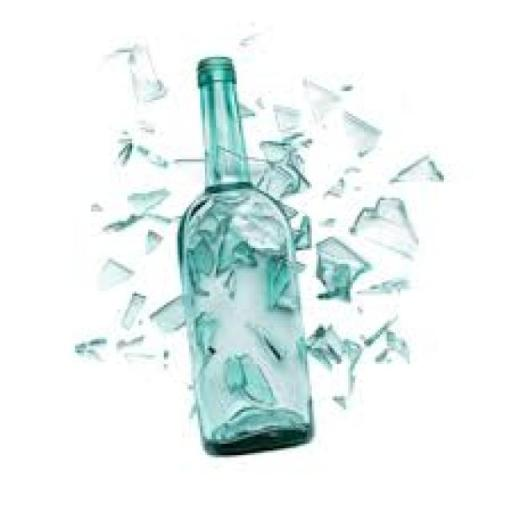glass: (174, 62, 317, 456), (315, 188, 423, 310), (78, 276, 175, 370), (255, 158, 304, 200), (114, 132, 168, 169), (302, 78, 345, 123), (342, 110, 382, 158), (372, 196, 414, 236), (390, 154, 444, 185), (96, 257, 136, 293), (126, 188, 172, 216), (326, 165, 365, 198), (258, 138, 304, 164), (271, 103, 304, 135), (350, 206, 380, 236), (74, 336, 108, 362), (144, 229, 164, 254)
